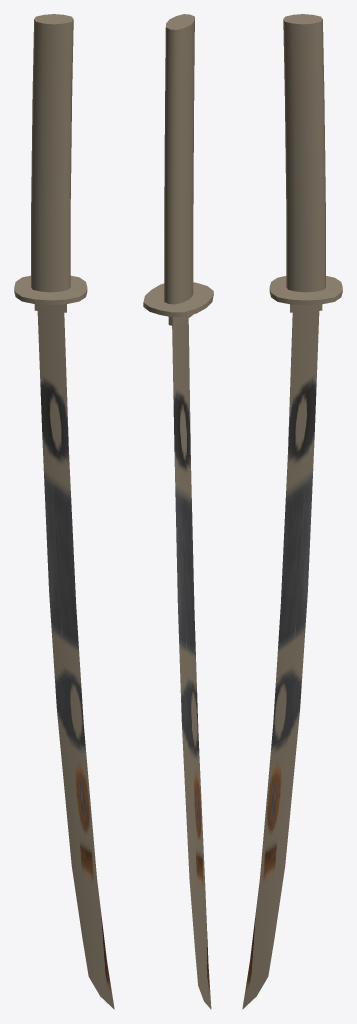
The model's file is Katana.fbx.
3 renders of one model, left to right at view 1: azimuth 90°, elevation 25°; view 2: azimuth 150°, elevation 25°; view 3: azimuth 270°, elevation 25°, orthographic. The views are drawn at different scales.
Visible parts, largest first — view 1: Katana.X_Katana.001; view 2: Katana.X_Katana.001; view 3: Katana.X_Katana.001.
Boxes of the visible parts, <box> form: Katana.X_Katana.001: <box>14,14,114,1009</box>; Katana.X_Katana.001: <box>143,14,213,1009</box>; Katana.X_Katana.001: <box>242,14,342,1009</box>.
Bounding box in the file's own units: 0.0358 × 0.6268 × 0.0576.
